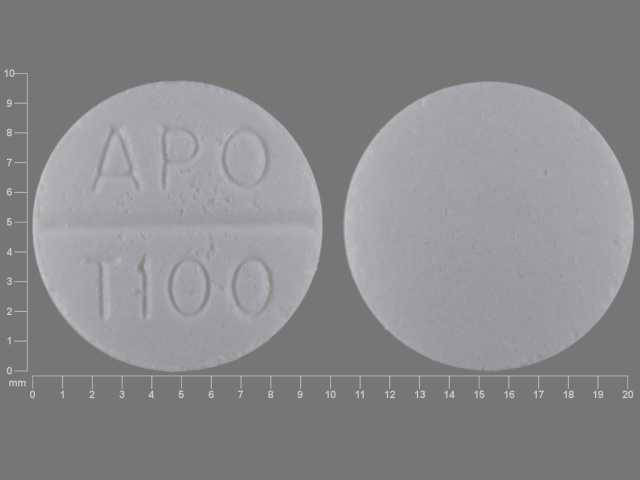0: (227, 252, 278, 318), (167, 254, 213, 321)
1: (131, 251, 161, 323)
A: (84, 124, 148, 200)
O: (221, 123, 274, 190)
P: (159, 121, 204, 192)
T: (78, 253, 123, 323)
